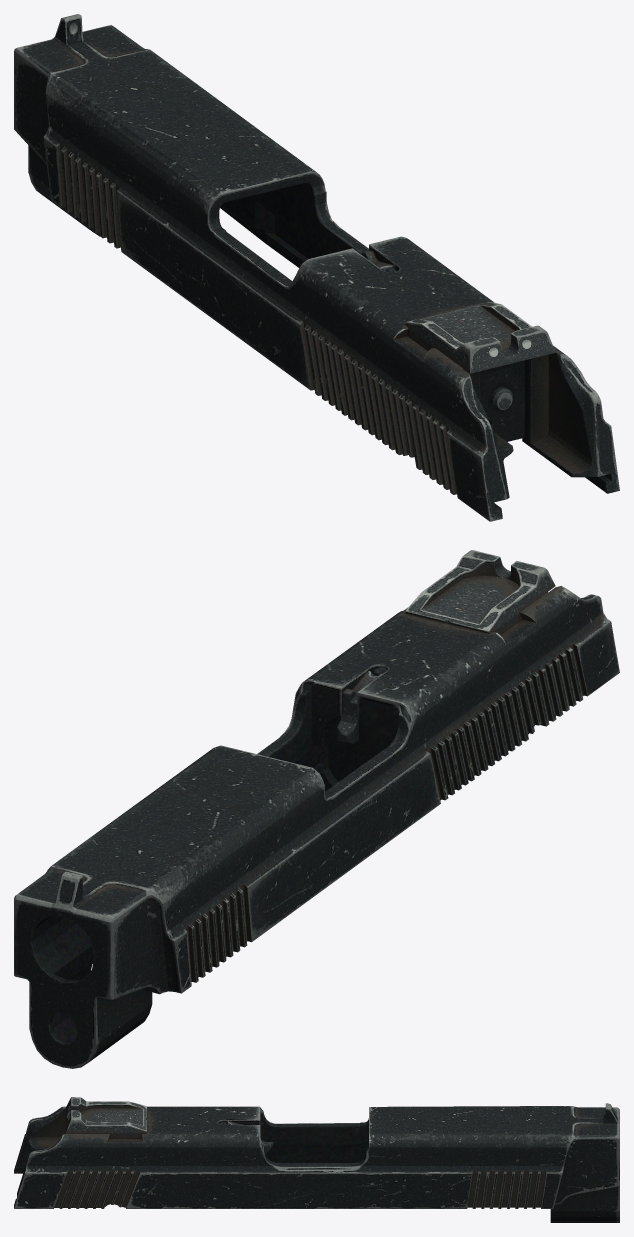
3 renders of one model, top to bottom at view 1: azimuth 30°, elevation 25°; view 2: azimuth 150°, elevation 25°; view 3: azimuth 270°, elevation 25°, orthographic. The views are drawn at different scales.
Parts seen in each view (by area): view 1: TW_576a581d2459771e7b1bc4f1_PZ_Import; view 2: TW_576a581d2459771e7b1bc4f1_PZ_Import; view 3: TW_576a581d2459771e7b1bc4f1_PZ_Import.
Boxes of the visible parts, left/top/right/bottom form: TW_576a581d2459771e7b1bc4f1_PZ_Import: left=14, top=14, right=619, bottom=521; TW_576a581d2459771e7b1bc4f1_PZ_Import: left=14, top=550, right=619, bottom=1068; TW_576a581d2459771e7b1bc4f1_PZ_Import: left=14, top=1097, right=619, bottom=1222.
Bounding box in the file's own units: 0.0169 × 0.111 × 0.0231.
1 material, 1 textured.
